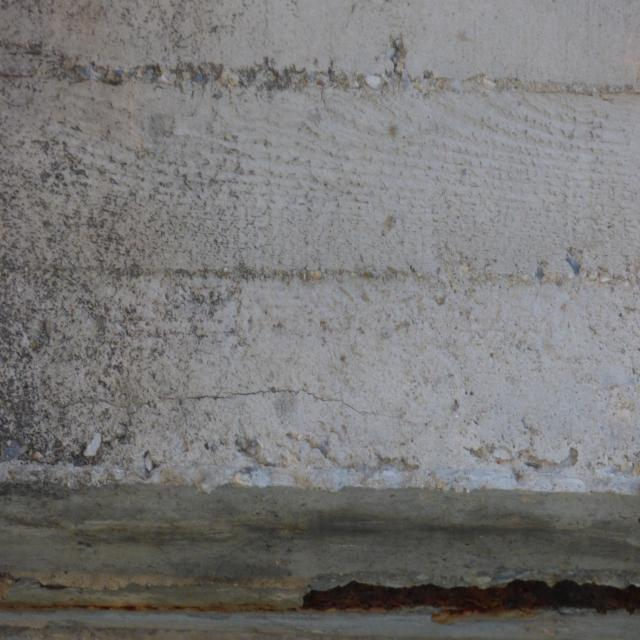corrosion: (0, 572, 640, 629)
